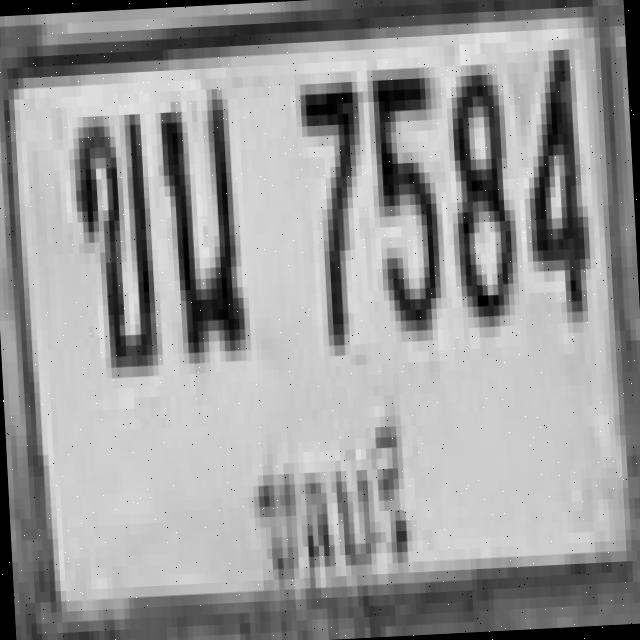11KhorKhai: (66, 103, 154, 370)
34NorNu: (154, 88, 241, 354)
4: (517, 38, 588, 314)
5: (367, 57, 438, 333)
7: (294, 71, 365, 348)
8: (445, 64, 515, 318)
Chonburi: (238, 414, 426, 602)
